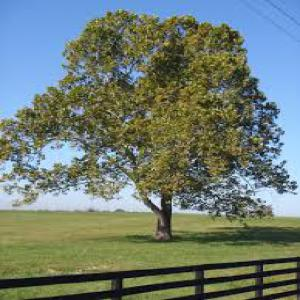Tree: (0, 7, 299, 242)
